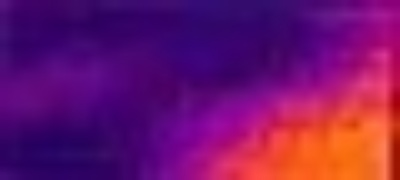Shadow: (1, 1, 331, 100), (1, 100, 214, 180), (331, 1, 400, 73)
